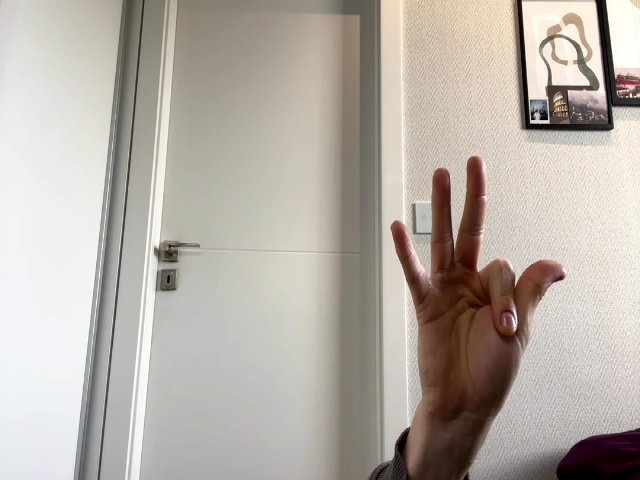F: (392, 156, 567, 410)
